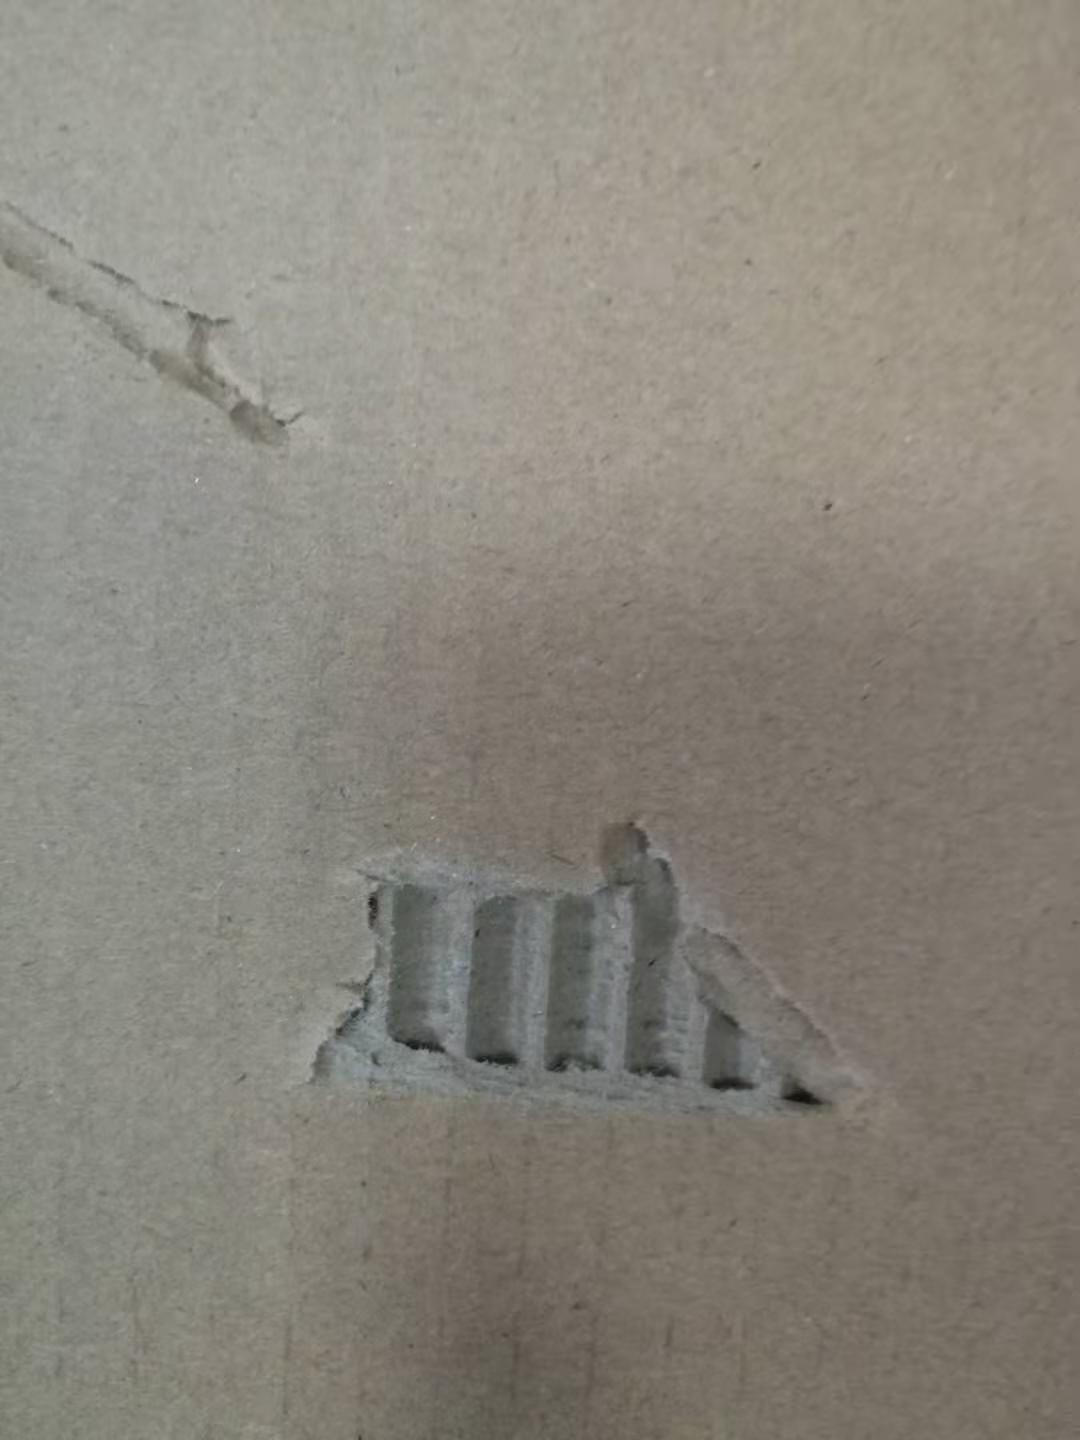defect: (246, 785, 942, 1172), (1, 164, 346, 499)
